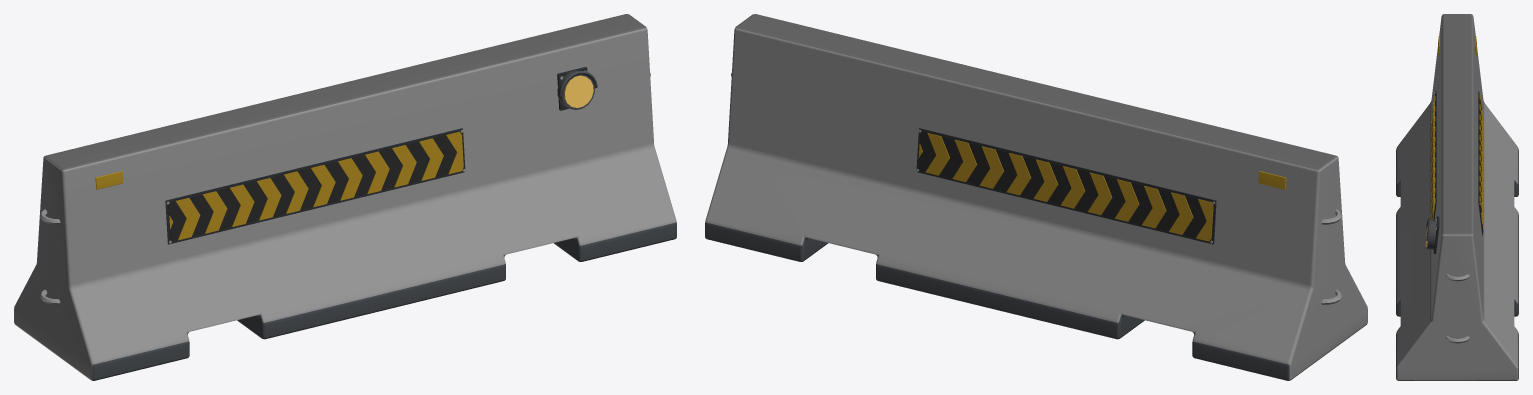
Rendered from Barrier_Jersey.fbx.
The picture shows the model from 3 angles, left to right: view 1: azimuth 30°, elevation 25°; view 2: azimuth 150°, elevation 25°; view 3: azimuth 270°, elevation 25°; orthographic projection. The views are drawn at different scales.
Visible parts, largest first — view 1: Barrier_Jersey_LOD0; view 2: Barrier_Jersey_LOD0; view 3: Barrier_Jersey_LOD0.
Part boxes in pixels (left/top/right/bottom): Barrier_Jersey_LOD0: left=14, top=14, right=676, bottom=380; Barrier_Jersey_LOD0: left=705, top=14, right=1367, bottom=380; Barrier_Jersey_LOD0: left=1396, top=14, right=1518, bottom=380.
Size of what is drawn, in the model's own units: 2.69 by 0.81 by 0.61.
